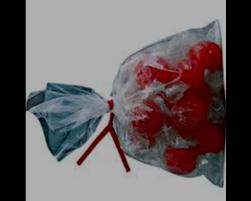Plastic: (25, 18, 225, 185)
